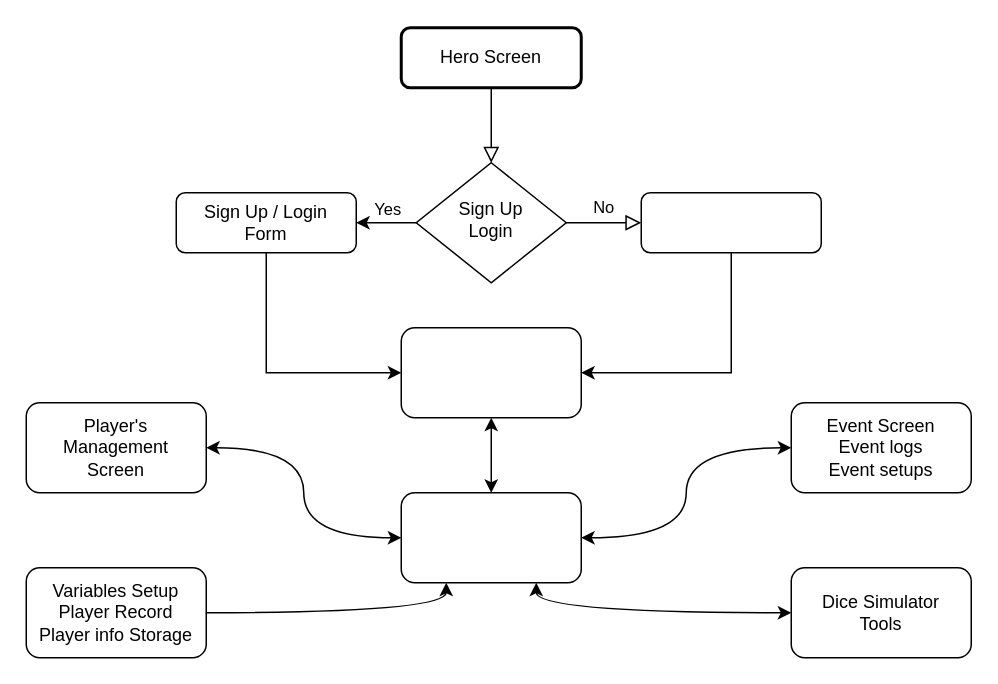
Some shapes in this 998 by 684 pixel diagram are drawn without their labels. The shapes that lost their labels are listed below. From the top down, each one's box as (x1, y1, x2, y2) in pixels, then its label:
(640, 191, 821, 253): Cookies / Hash Session
(400, 326, 581, 418): Home Screen / Ongoing Games
(400, 491, 581, 583): Game Screen # Turn / Round Next Event Iniciativa
